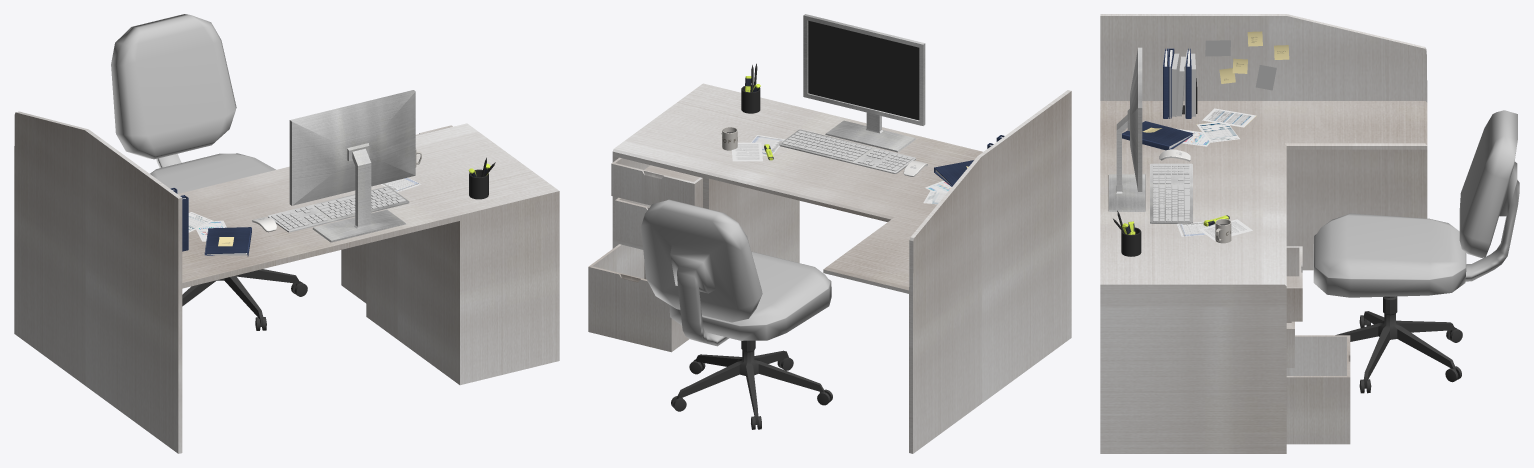
The model's file is office.fbx.
3 views of the same model, side by side, from view 1: azimuth 30°, elevation 25°; view 2: azimuth 150°, elevation 25°; view 3: azimuth 270°, elevation 25° (orthographic). The views are drawn at different scales.
Visible parts, largest first — view 1: table, pCube248, screen, pCube247, pCube230, pCylinder4, pCube6, pCube254, pCube7; view 2: table, pCube248, screen, pCube6, pCube247, pCube4, pCylinder4, pCube230, pCube5, pCube7, pPlane8, pCube254; view 3: table, pCube247, pCube248, pCube6, screen, pCylinder4, pCube230, pCube4, pCube7, pCube254, pPlane11, pPlane10 (+6 smaller).
Part boxes in pixels (x1,y1,x2,y2): table: (14, 111, 559, 453); pCube248: (111, 14, 236, 167); screen: (289, 90, 415, 242); pCube247: (150, 153, 275, 193); pCube230: (271, 187, 405, 229); pCylinder4: (182, 269, 300, 327); pCube6: (341, 244, 366, 303); pCube254: (204, 227, 251, 256); pCube7: (268, 186, 409, 232); table: (612, 83, 1071, 453); pCube248: (641, 199, 762, 346); screen: (803, 14, 925, 152); pCube6: (588, 244, 689, 352); pCube247: (669, 251, 831, 340); pCube4: (611, 157, 702, 207); pCylinder4: (676, 340, 824, 424); pCube230: (782, 130, 913, 171); pCube5: (615, 197, 650, 244); pCube7: (779, 129, 915, 173); pPlane8: (731, 142, 762, 161); pCube254: (934, 160, 973, 186); table: (1100, 14, 1427, 453); pCube247: (1313, 213, 1466, 297); pCube248: (1459, 110, 1519, 281); pCube6: (1286, 335, 1350, 444); screen: (1108, 47, 1145, 211); pCylinder4: (1335, 296, 1456, 388); pCube230: (1153, 164, 1189, 221); pCube4: (1286, 246, 1302, 321); pCube7: (1150, 163, 1192, 223); pCube254: (1122, 121, 1193, 150); pPlane11: (1202, 108, 1256, 127); pPlane10: (1196, 122, 1239, 142).
Size of the model in its own units: 4.32 by 3.1 by 4.13.
